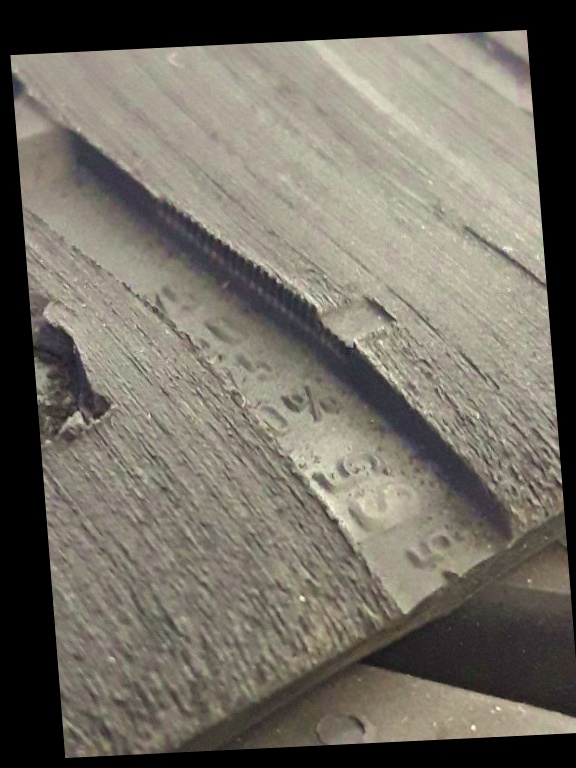temoin:0: (289, 268, 411, 371)
